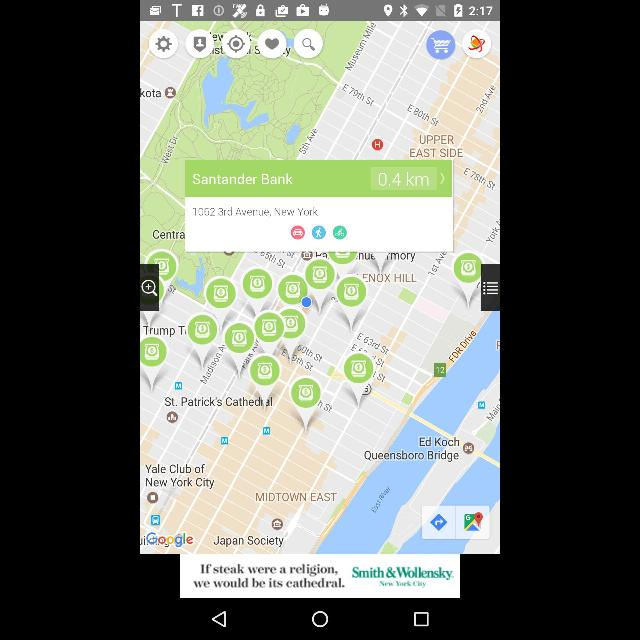icon: (292, 28, 324, 60), (185, 29, 215, 59), (222, 29, 250, 60), (258, 29, 286, 60), (150, 28, 178, 58), (210, 610, 226, 628), (312, 612, 328, 628), (414, 611, 430, 627)
iframe: (140, 554, 500, 598)
map: (140, 0, 500, 552)
panel: (140, 598, 500, 640)
uppertaskbar: (141, 1, 499, 21)
